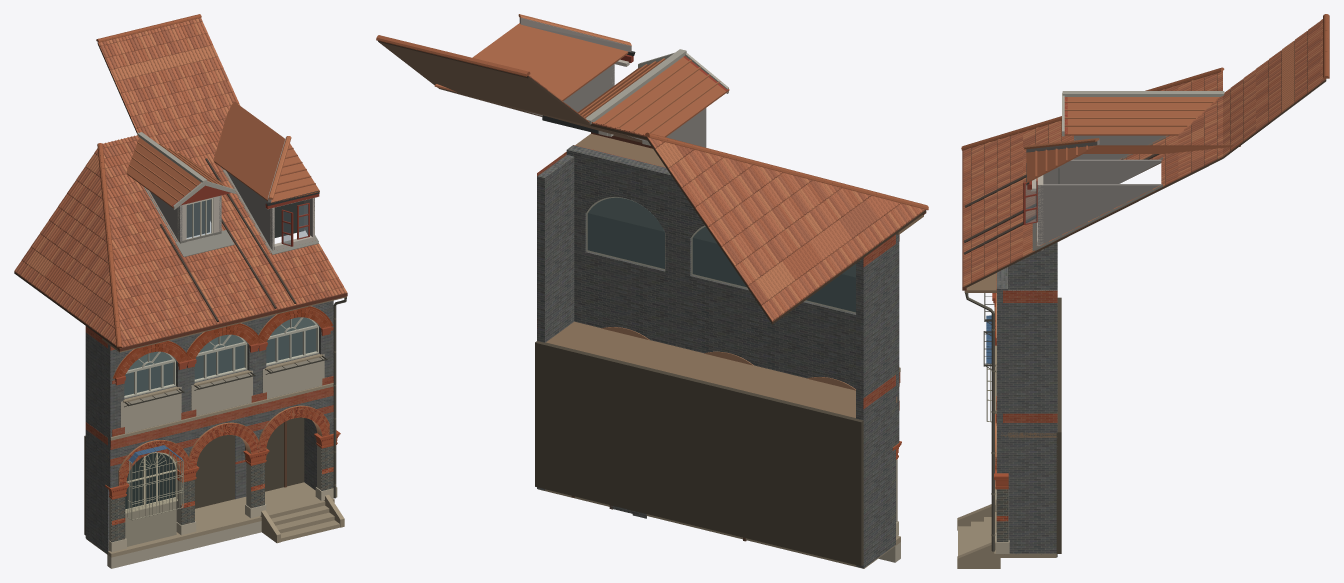
Rendered from hongkou-shanyin-209-brick-arched-front-lod.glb.
3 renders of one model, left to right at view 1: azimuth 30°, elevation 25°; view 2: azimuth 150°, elevation 25°; view 3: azimuth 270°, elevation 25°, orthographic. The views are drawn at different scales.
Parts seen in each view (by area): view 1: 山阴路209弄3号三券花园正面; view 2: 山阴路209弄3号三券花园正面; view 3: 山阴路209弄3号三券花园正面.
Boxes of the visible parts, x1=… form: 山阴路209弄3号三券花园正面: x1=14, y1=14, x2=347, y2=568; 山阴路209弄3号三券花园正面: x1=376, y1=14, x2=928, y2=568; 山阴路209弄3号三券花园正面: x1=957, y1=14, x2=1329, y2=568.
Bounding box in the file's own units: 10.31 × 16.79 × 11.42.
Materials: 59 (2 with a texture image).
